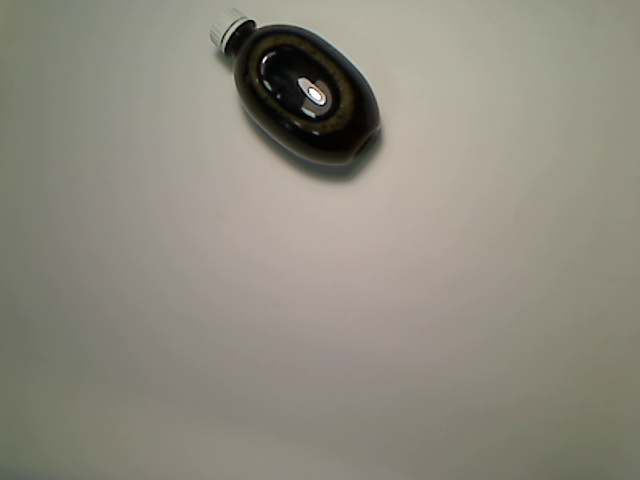plast_bottle: (207, 6, 384, 170)
